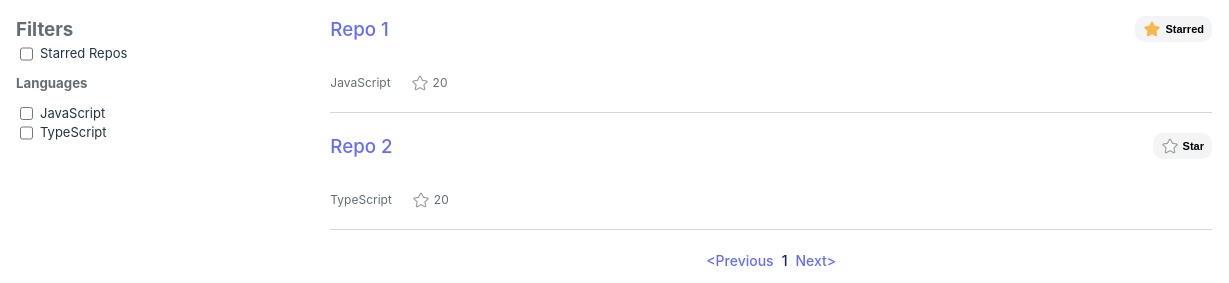
RepoListPage component › filters repositories by language
Click the checkbox labelled "JavaScript".
click(26, 113)  # box [20,106,33,120]
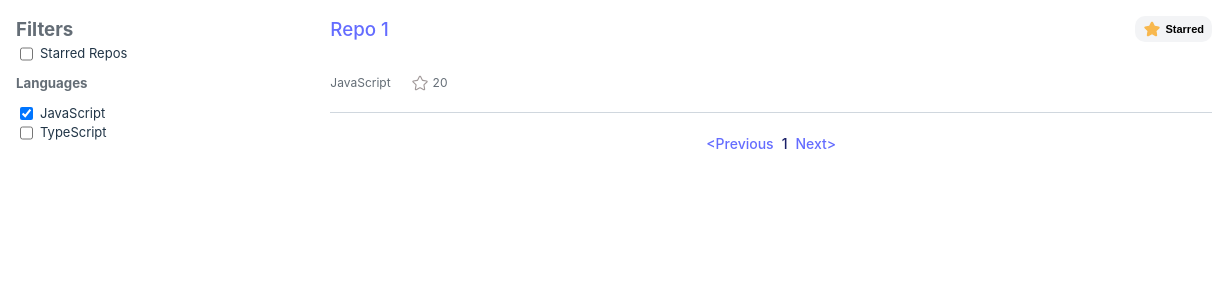
Expected: the link "Repo 1" is shown, [330,18,389,41]
Now the checkbox labelled "JavaScript" is checked, box [20,106,33,120]
Now the link "Repo 2" is gone
